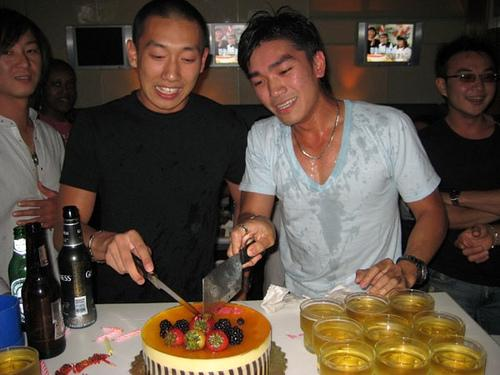strawberry: (188, 314, 215, 336), (182, 329, 207, 351), (206, 330, 230, 352), (162, 328, 184, 346)
